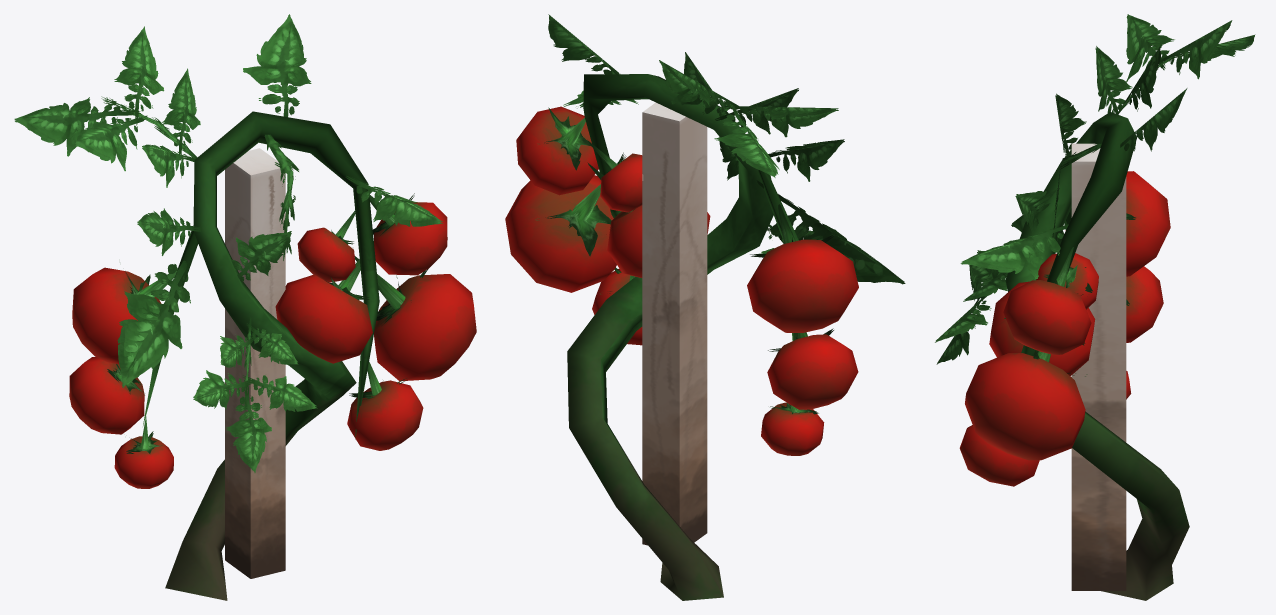
File: tomato_stage3.FBX
3 views of the same model, side by side, from view 1: azimuth 30°, elevation 25°; view 2: azimuth 150°, elevation 25°; view 3: azimuth 270°, elevation 25° (orthographic). The views are drawn at different scales.
Visible parts, largest first — view 1: tomato_stage3; view 2: tomato_stage3; view 3: tomato_stage3.
Boxes of the visible parts, bbox=[...] form: tomato_stage3: bbox=[14, 14, 476, 600]; tomato_stage3: bbox=[505, 14, 905, 600]; tomato_stage3: bbox=[935, 14, 1255, 600].
Size of the model in its own units: 2.65 by 3.77 by 2.
Materials: 1 (1 with a texture image).
